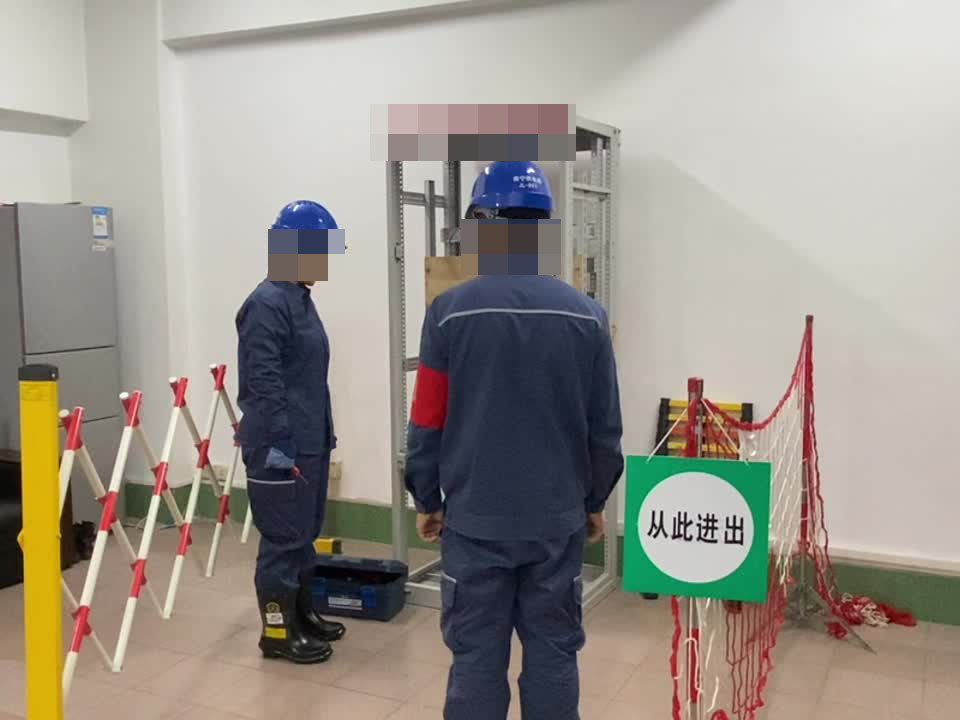badge: (409, 363, 451, 429)
downsuit: (433, 551, 591, 720), (239, 450, 333, 611)
glove: (261, 447, 294, 473)
halt: (464, 155, 558, 260), (268, 199, 346, 284)
hand: (414, 510, 441, 543), (584, 511, 606, 545)
inear: (471, 212, 494, 250)
intosign: (624, 456, 772, 602)
noear: (293, 242, 311, 272)
person: (402, 152, 627, 720), (225, 196, 353, 655)
shoe: (253, 588, 344, 664)
upsuit: (401, 258, 626, 539), (234, 277, 337, 449)
